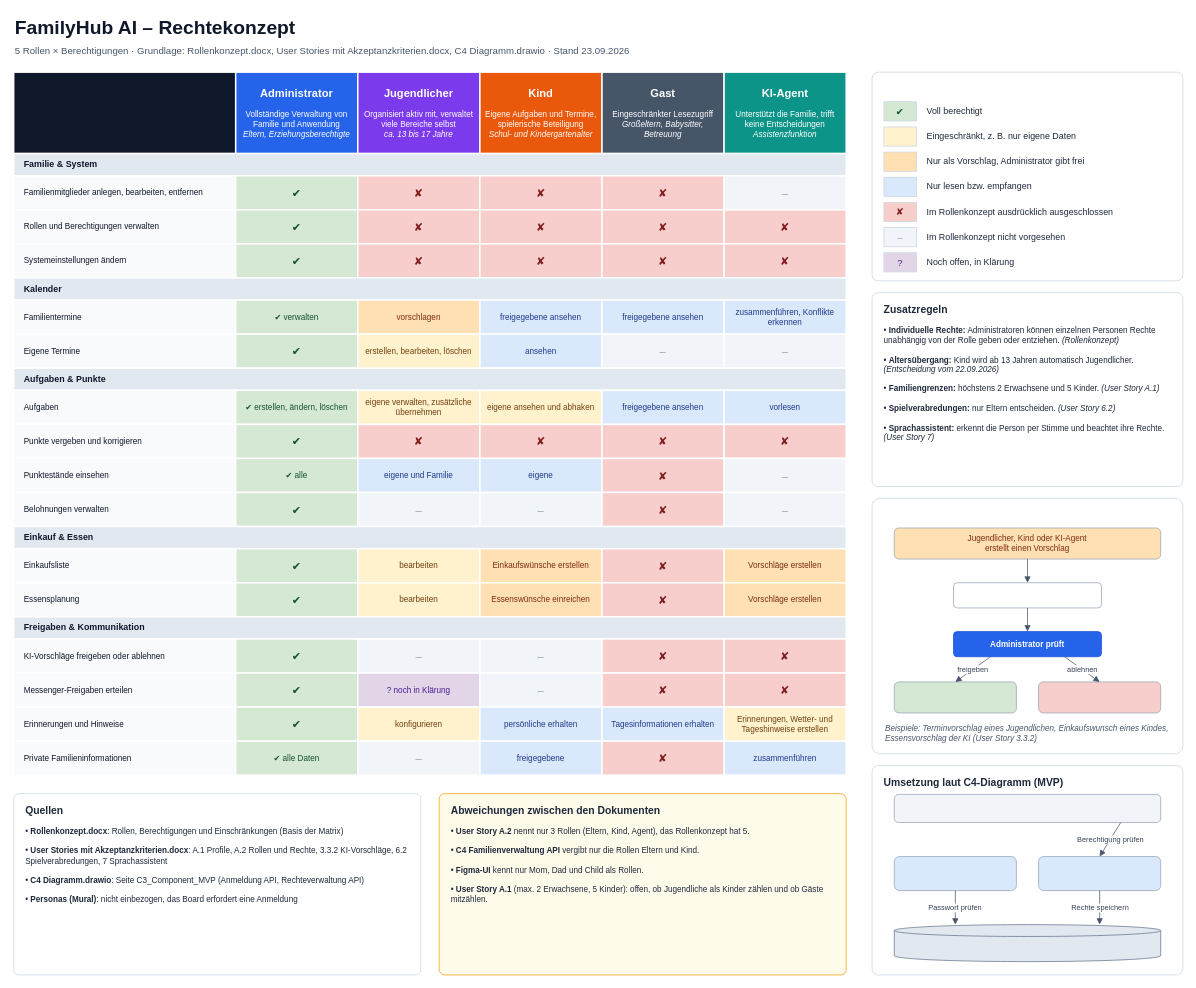
This 1196x988 diagram has some shape labels left out. Here are the shapes that lost their labels. From the top down, the box of each, then its label:
(13, 71, 236, 154): Berechtigung
(871, 71, 1183, 281): Legende
(953, 582, 1101, 608): Status: Vorschlag
(871, 498, 1183, 754): Freigabe-Workflow
(894, 681, 1016, 713): Freigegeben wird übernommen
(1038, 681, 1161, 713): Abgelehnt wird verworfen
(894, 794, 1161, 823): Kalender-, Termin- und Familienverwaltung-API
(894, 856, 1016, 891): Anmeldung API Benutzer anmelden
(1038, 856, 1161, 891): Rechteverwaltung API Rollen, Rechte, Prüfung
(894, 924, 1161, 962): Datenbank (noSQL)
